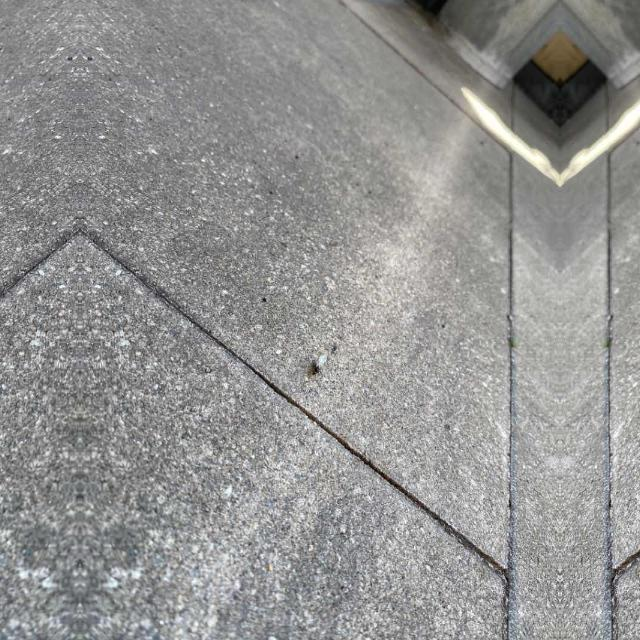Lasius: (308, 352, 328, 376)
